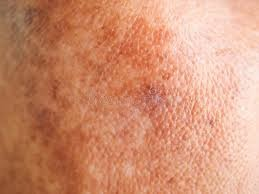Melasma: (3, 3, 214, 194)
